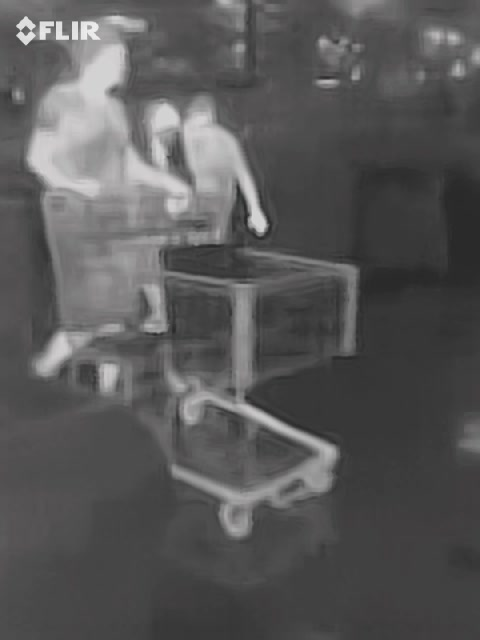head: (74, 28, 131, 91)
